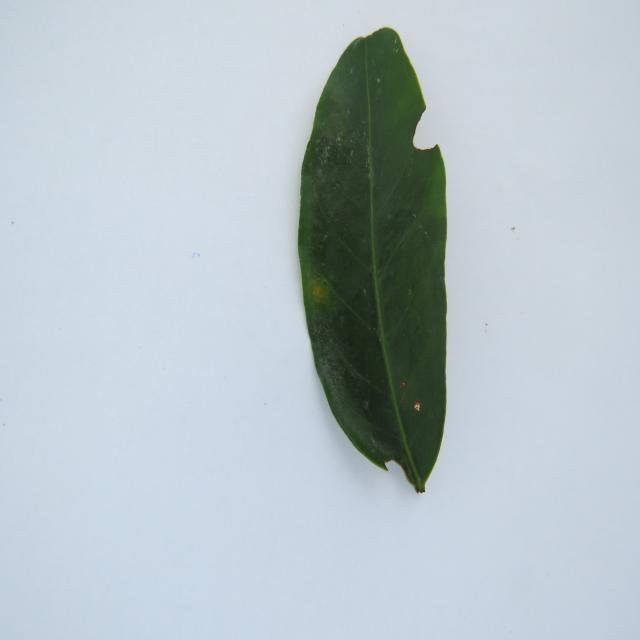DeficienciaNutricional-Boro: (299, 28, 446, 492)
